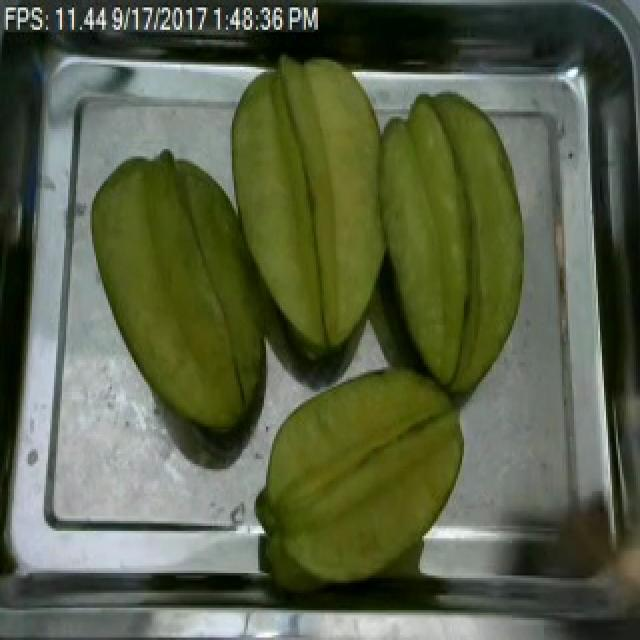fruit: (294, 67, 538, 402), (208, 42, 414, 375), (80, 144, 284, 441), (246, 355, 476, 598)
